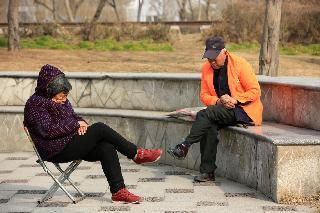person - v3 P: (24, 65, 161, 203), (168, 38, 262, 181)
